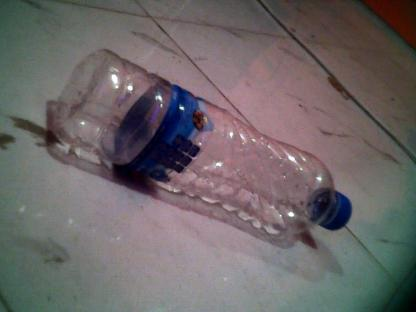Plastic Bottle: (44, 48, 356, 244)
